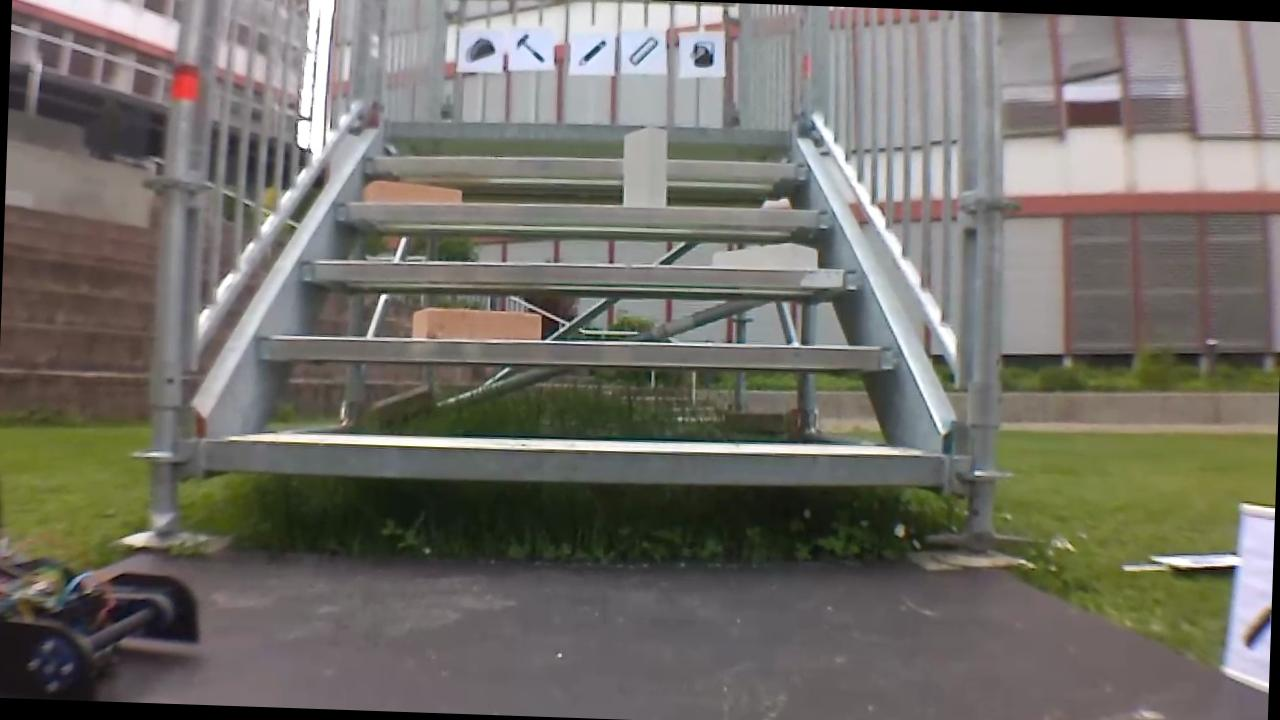brick: (410, 307, 541, 340), (621, 127, 668, 206), (713, 240, 818, 269), (362, 179, 461, 204)
bucket: (683, 33, 720, 73)
edge: (204, 430, 937, 496), (260, 325, 898, 375), (300, 249, 862, 296), (334, 193, 835, 232), (363, 148, 808, 184), (383, 115, 787, 146)
hammer: (511, 28, 548, 67)
pencil: (571, 32, 608, 72)
ruler: (625, 30, 660, 70)
steps: (198, 105, 953, 505)
taco: (460, 34, 496, 65)
